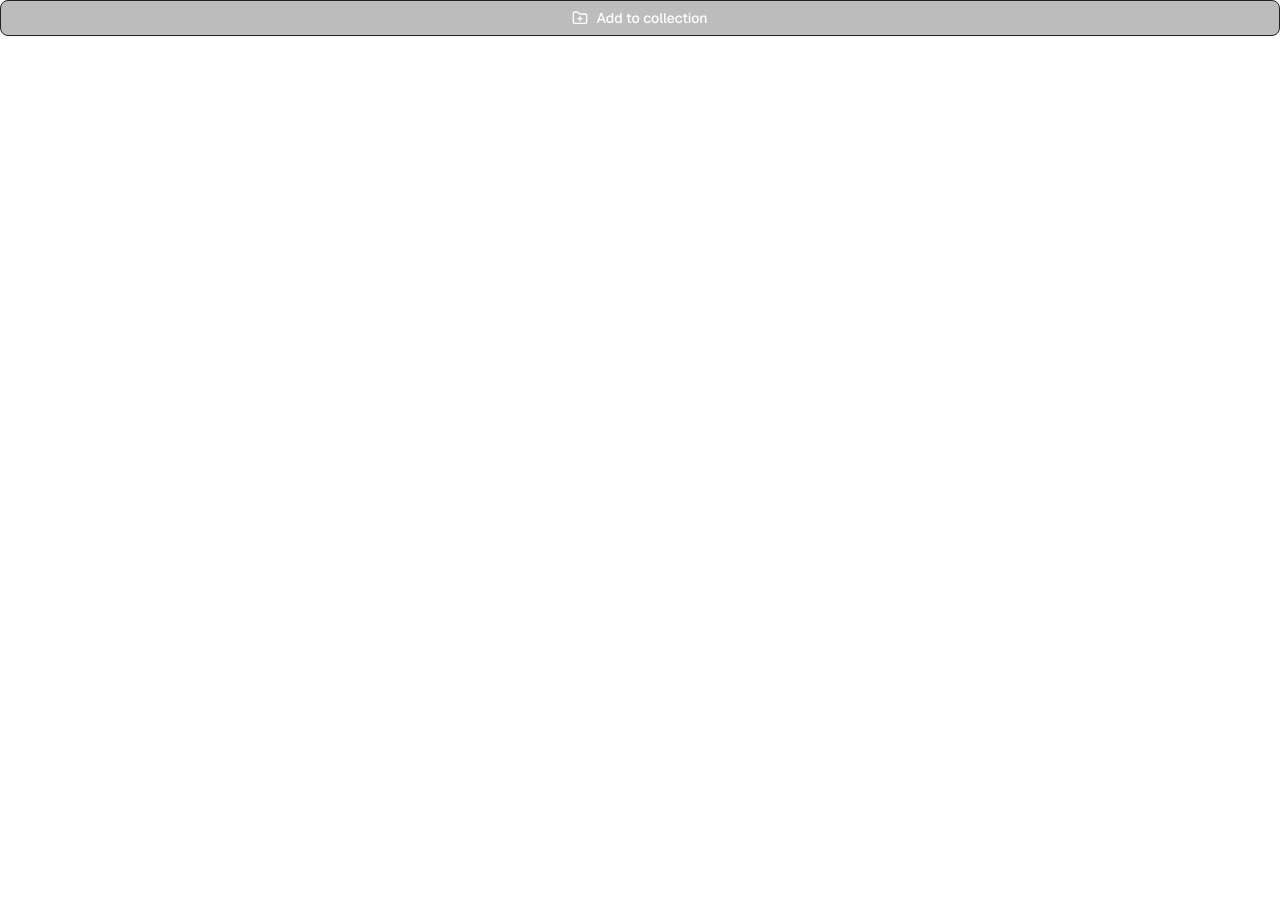
Test: AddToCollectionPopover › removes the model from a collection it is already in
This screenshot has width=1280, height=900.
Click the button "Add to collection" at point(640, 18), box [0, 0, 1279, 36]
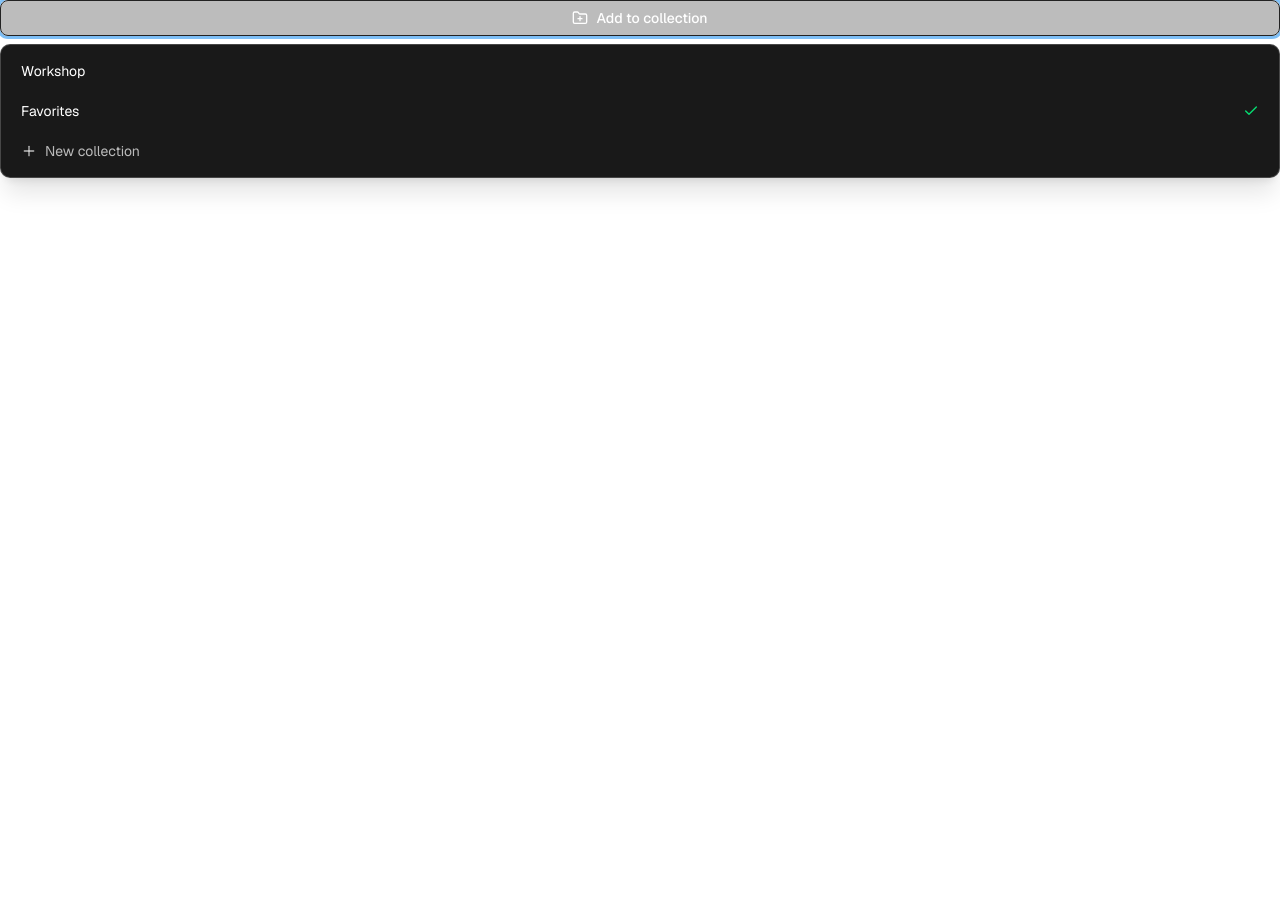
Click the button "Favorites" at point(50, 111), box [9, 93, 1271, 129]
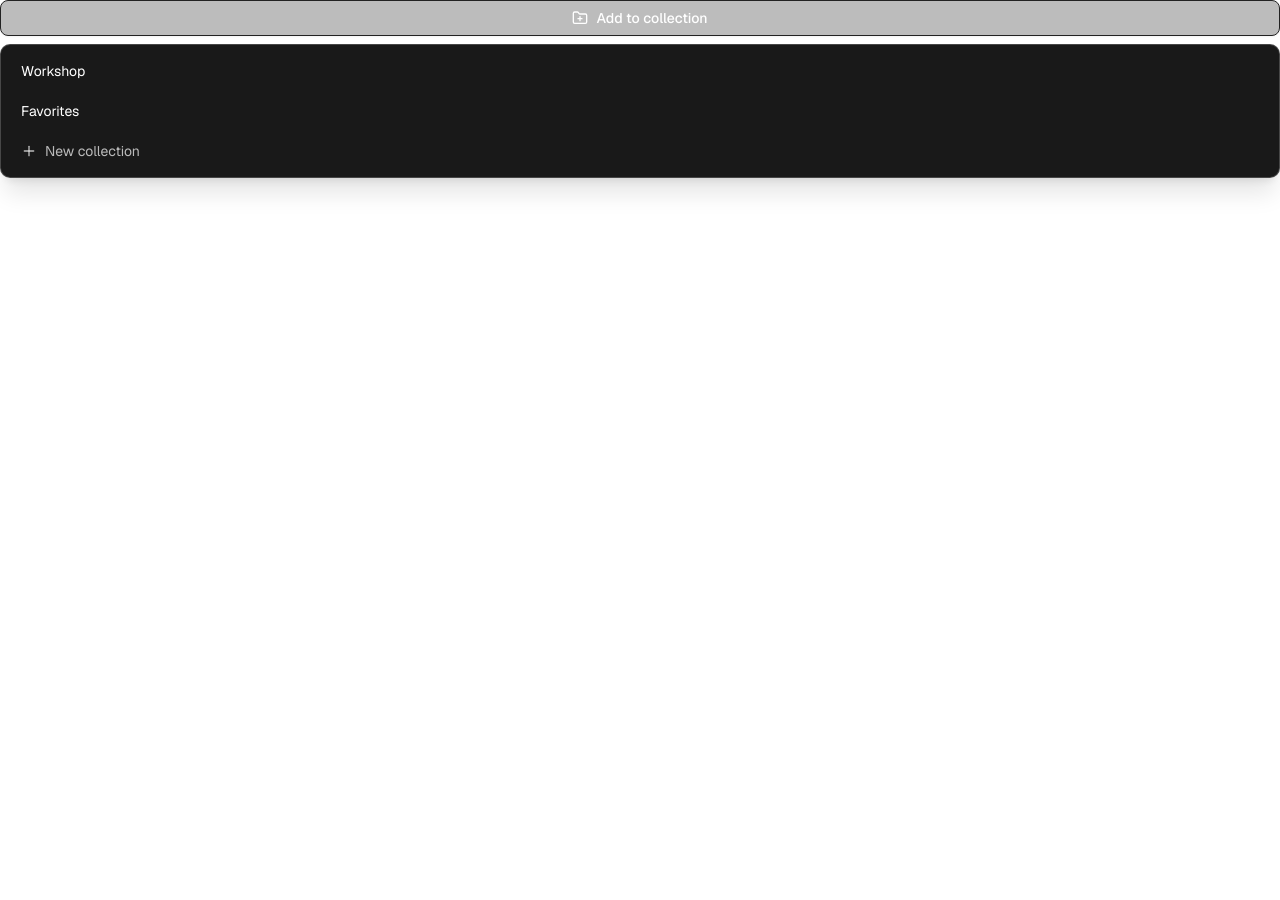
Result: the button "Favorites" is not pressed at [9, 93, 1271, 129]
